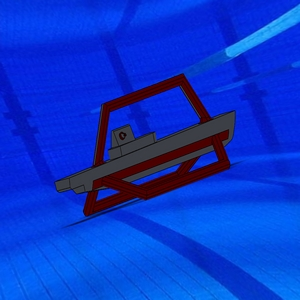submarine: (52, 71, 238, 219)
